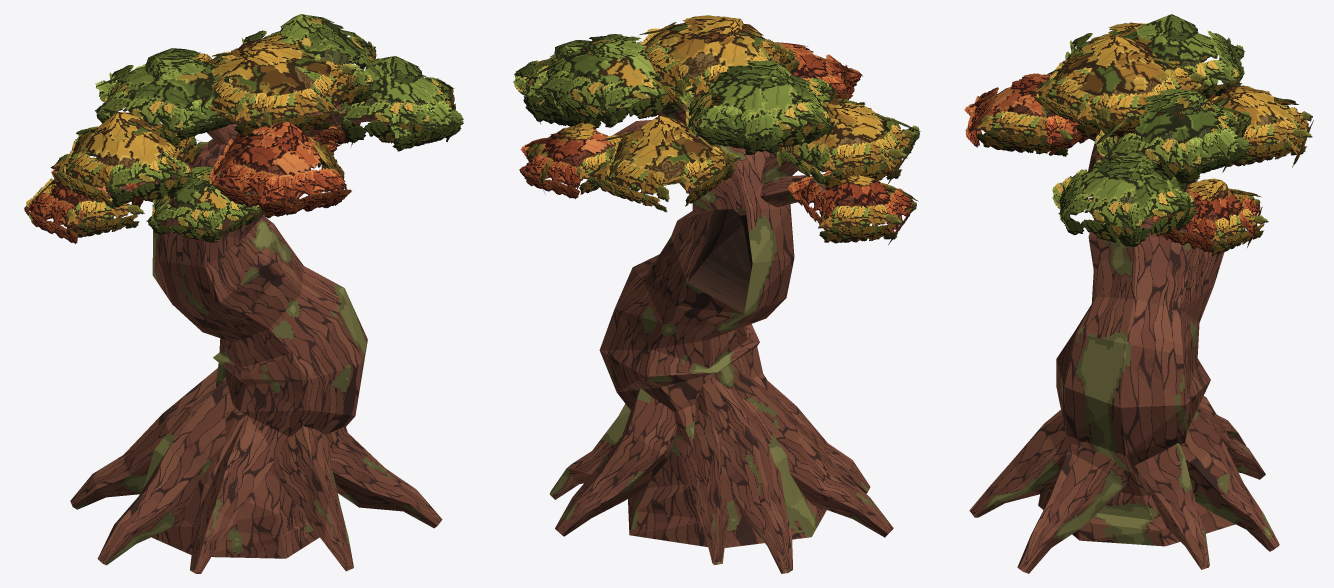
The model's file is SM_TR14_KnottyGiant.fbx.
The picture shows the model from 3 angles, left to right: view 1: azimuth 30°, elevation 25°; view 2: azimuth 150°, elevation 25°; view 3: azimuth 270°, elevation 25°; orthographic projection.
Visible parts, largest first — view 1: TR14_Bark, TR14_Crown; view 2: TR14_Bark, TR14_Crown, TR14_Parts; view 3: TR14_Bark, TR14_Crown.
Part boxes in pixels (left/top/right/bottom): TR14_Bark: left=70, top=102, right=442, bottom=573; TR14_Crown: left=24, top=14, right=463, bottom=243; TR14_Bark: left=549, top=94, right=893, bottom=573; TR14_Crown: left=513, top=15, right=920, bottom=244; TR14_Parts: left=687, top=209, right=752, bottom=313; TR14_Bark: left=969, top=107, right=1279, bottom=573; TR14_Crown: left=964, top=14, right=1313, bottom=255.
Bounding box in the file's own units: 8.88 × 9.71 × 6.73.
